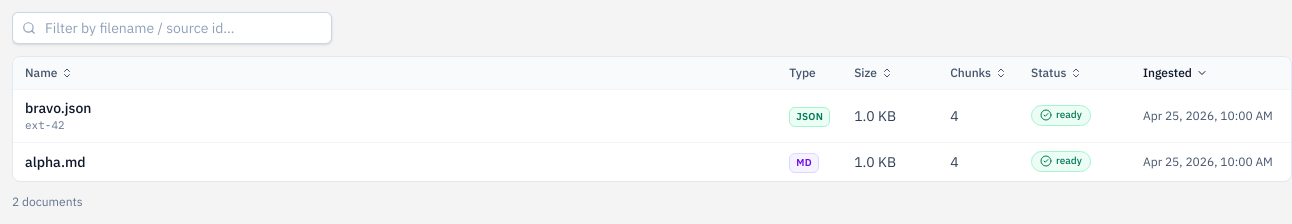
Test case: DocumentTable › filters by source filename / source-doc id
Type "ext-42" into the field named "Filter documents" at (172, 28), box [12,12,332,44]
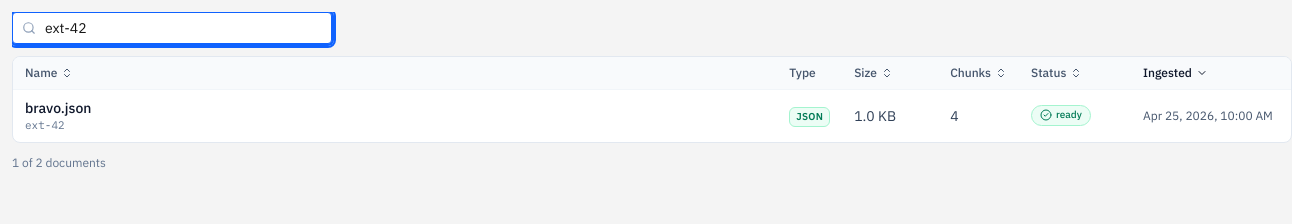
Expected: the text "bravo.json" is shown, [25,99,91,117]
Expected: the text "alpha.md" is gone
